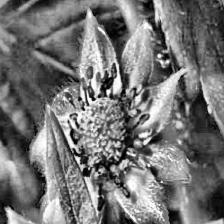Blossom Blight: (60, 61, 157, 212)
